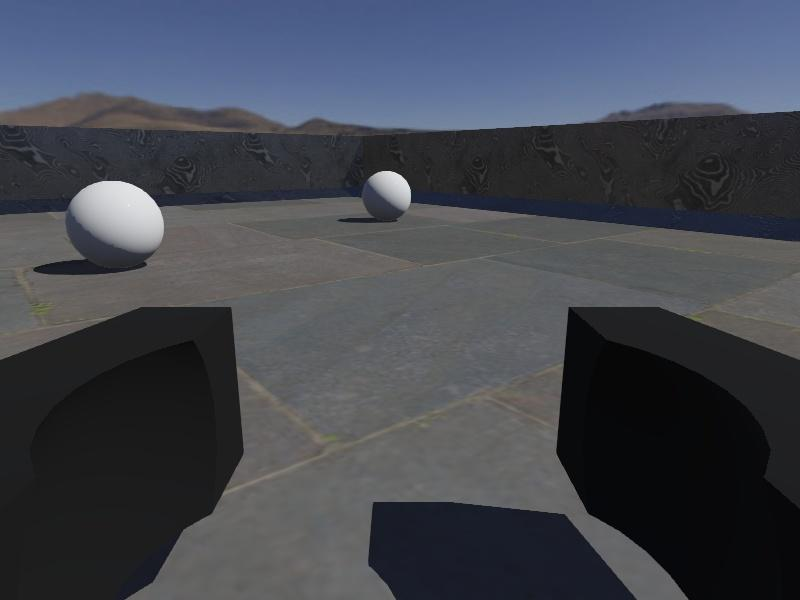white ball: (65, 179, 163, 269), (361, 170, 413, 222)
